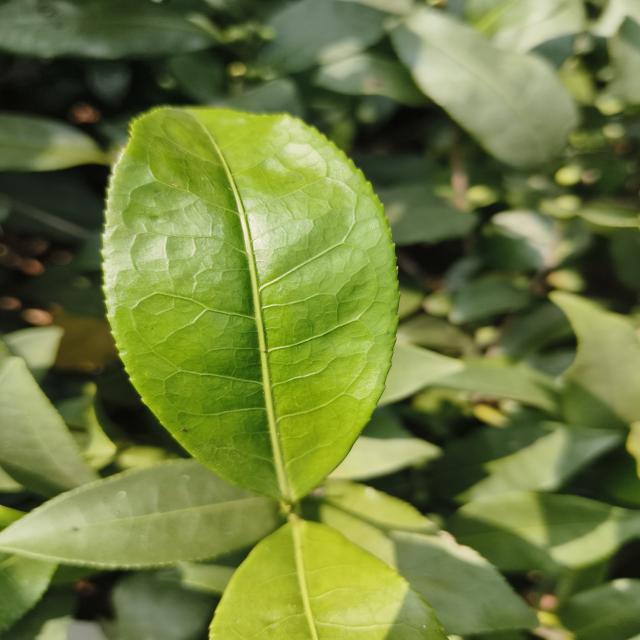Leaf: (104, 107, 398, 502), (304, 480, 537, 636), (0, 458, 280, 570), (209, 513, 446, 640), (390, 8, 577, 168), (432, 422, 621, 504), (448, 491, 640, 571), (0, 356, 98, 498), (0, 0, 213, 59), (255, 0, 384, 74), (0, 114, 109, 171)
